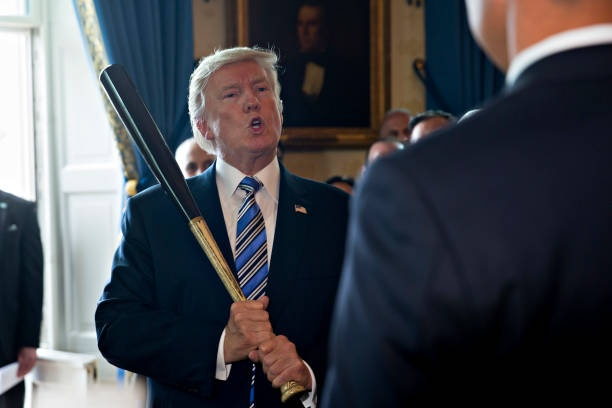bita: (95, 63, 295, 391)
